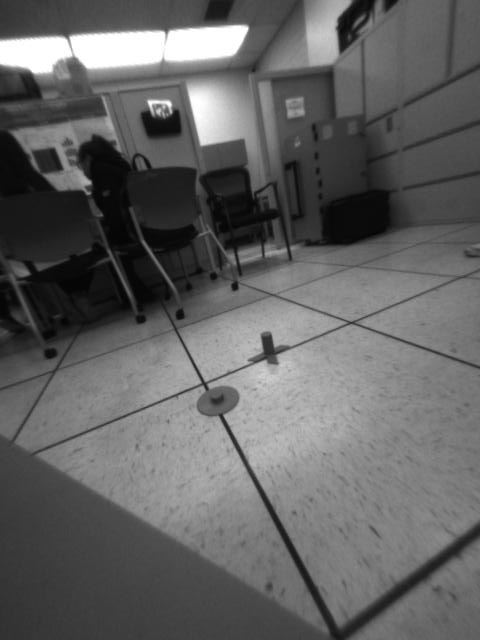X: (248, 330, 291, 366)
